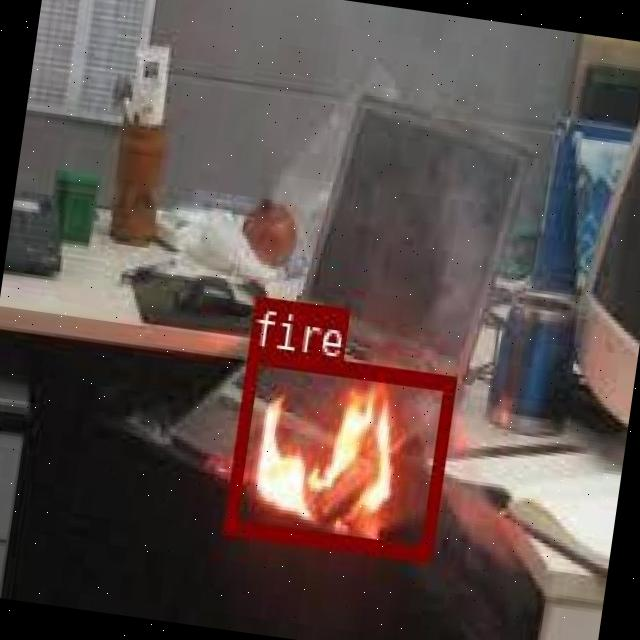fire: (222, 348, 454, 558)
